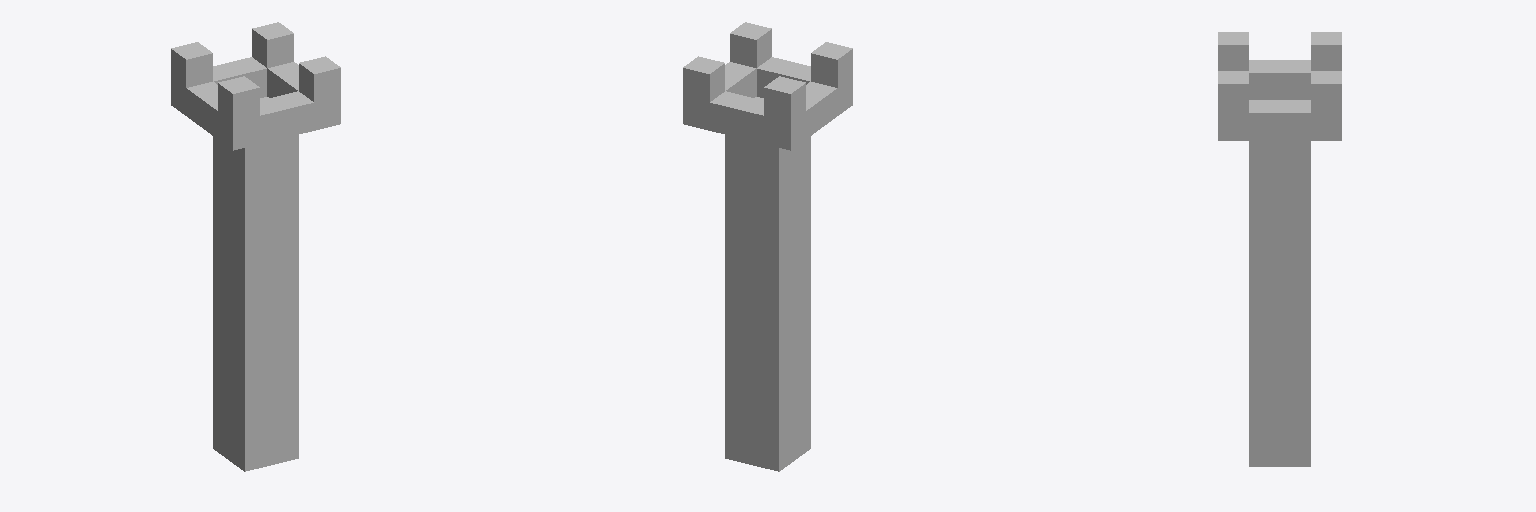
Rendered from Torch.obj.
3 renders of one model, left to right at view 1: azimuth 30°, elevation 25°; view 2: azimuth 150°, elevation 25°; view 3: azimuth 270°, elevation 25°, orthographic.
Visible parts, largest first — view 1: object 1; view 2: object 1; view 3: object 1.
Boxes of the visible parts, box(x1,y1,x2,y2) form: object 1: box(171, 22, 340, 471); object 1: box(683, 22, 852, 471); object 1: box(1218, 32, 1341, 466).
Bounding box in the file's own units: 0.4 × 1.4 × 0.4.